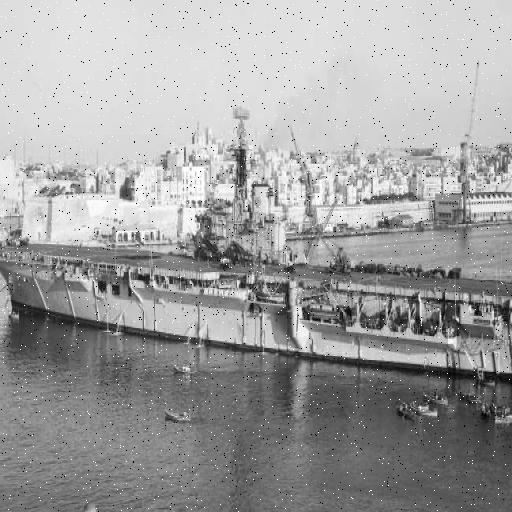Portanaves: (1, 93, 512, 393)
